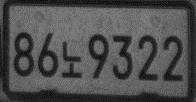2: (160, 34, 185, 82), (137, 34, 159, 82)
3: (112, 34, 134, 80)
6: (34, 31, 59, 79)
8: (12, 32, 35, 77)
9: (88, 33, 110, 78)
노: (61, 40, 83, 79)
